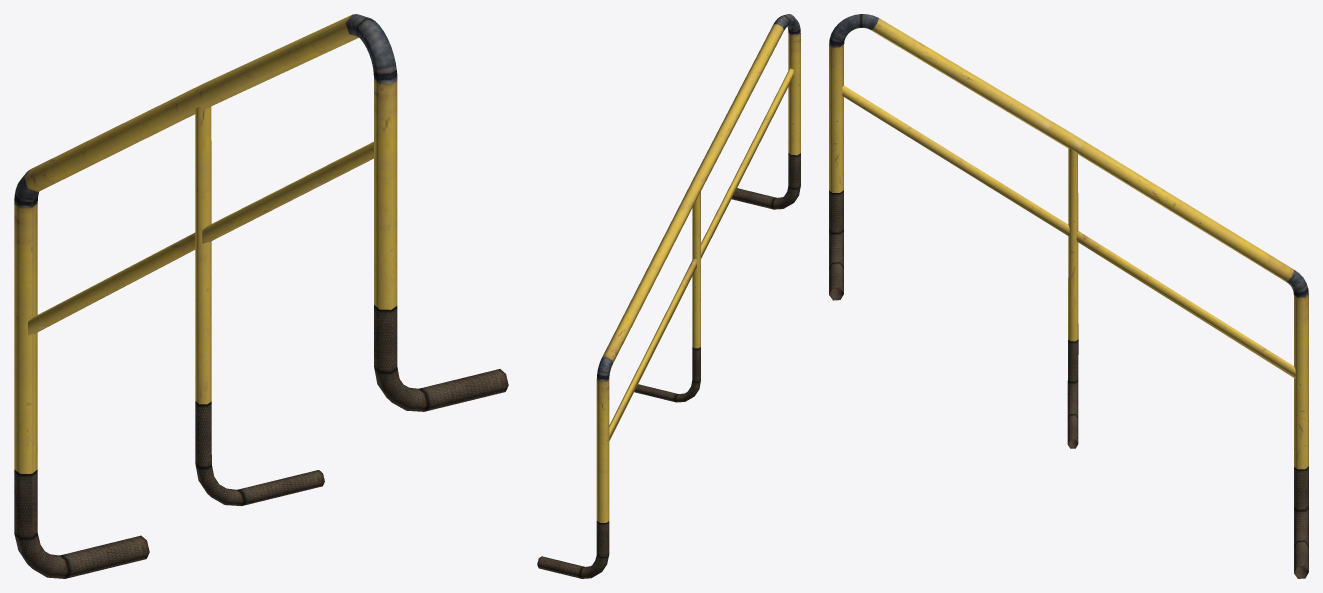
Rendered from Railing_08.fbx.
3 views of the same model, side by side, from view 1: azimuth 30°, elevation 25°; view 2: azimuth 150°, elevation 25°; view 3: azimuth 270°, elevation 25° (orthographic). The views are drawn at different scales.
Visible parts, largest first — view 1: Railing_08; view 2: Railing_08; view 3: Railing_08.
Boxes of the visible parts, <box> form: Railing_08: <box>14,14,508,578</box>; Railing_08: <box>537,14,800,578</box>; Railing_08: <box>829,14,1308,578</box>.
Size of the model in its own units: 38.06 by 234 by 193.
1 material, 1 textured.
